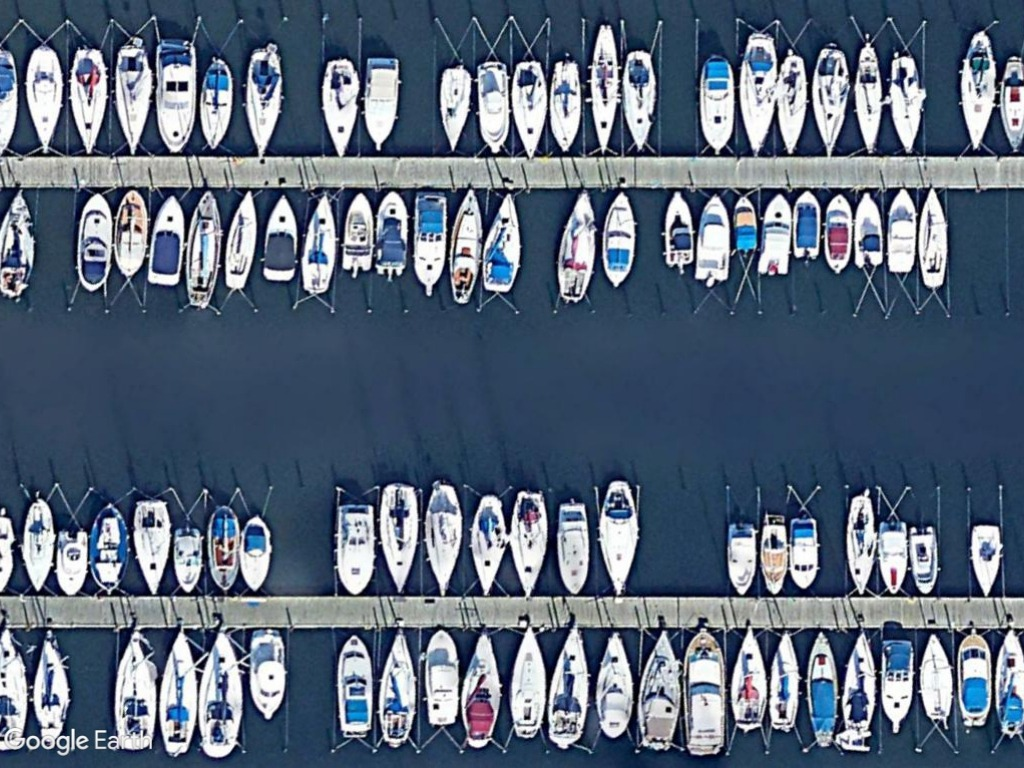boat: (679, 625, 729, 758), (734, 27, 783, 157), (151, 33, 201, 158), (199, 626, 244, 763), (634, 627, 681, 756), (419, 478, 468, 599), (372, 476, 421, 597), (460, 628, 508, 751), (553, 187, 603, 305), (795, 628, 842, 753), (179, 186, 226, 310), (594, 476, 642, 597), (330, 627, 380, 743), (156, 623, 198, 759), (955, 26, 998, 157), (111, 627, 156, 752), (547, 627, 592, 751), (377, 627, 421, 753), (239, 42, 286, 158), (109, 40, 155, 158), (28, 624, 74, 742), (582, 20, 621, 158), (478, 189, 527, 297), (506, 483, 553, 595), (20, 43, 66, 157), (140, 189, 191, 291), (507, 621, 549, 744), (809, 41, 853, 158), (470, 52, 515, 164), (65, 45, 110, 157), (405, 187, 450, 299), (242, 624, 292, 723), (693, 51, 739, 156), (128, 492, 174, 597), (318, 56, 363, 163), (330, 498, 378, 598), (445, 185, 484, 306), (297, 186, 338, 301), (593, 627, 635, 739), (72, 187, 115, 296), (467, 491, 509, 602), (883, 50, 927, 155), (726, 624, 768, 734), (596, 188, 641, 290), (220, 188, 264, 292), (418, 625, 462, 729), (0, 186, 39, 303), (619, 45, 659, 159), (839, 488, 880, 598), (14, 495, 60, 593), (359, 52, 403, 153), (691, 187, 734, 289), (872, 632, 916, 731), (86, 496, 130, 593), (834, 629, 875, 733), (432, 61, 475, 159), (989, 624, 1024, 743), (508, 56, 548, 160), (259, 189, 302, 285), (198, 52, 237, 156), (545, 57, 585, 157), (202, 500, 244, 594), (952, 627, 990, 729), (110, 184, 149, 282), (852, 39, 884, 158), (916, 185, 951, 291), (916, 629, 955, 722), (553, 501, 591, 596), (764, 628, 798, 734), (776, 49, 809, 158), (756, 188, 794, 280), (372, 188, 410, 280), (657, 186, 699, 269), (966, 519, 1007, 602), (339, 188, 377, 276), (880, 184, 916, 276), (235, 512, 275, 594), (817, 185, 853, 276), (847, 188, 885, 273), (718, 517, 757, 595), (875, 515, 913, 595), (783, 512, 820, 594), (167, 520, 205, 593), (788, 186, 822, 264), (905, 519, 939, 597), (999, 54, 1024, 158), (54, 525, 90, 595), (757, 515, 786, 598), (727, 190, 761, 257)
